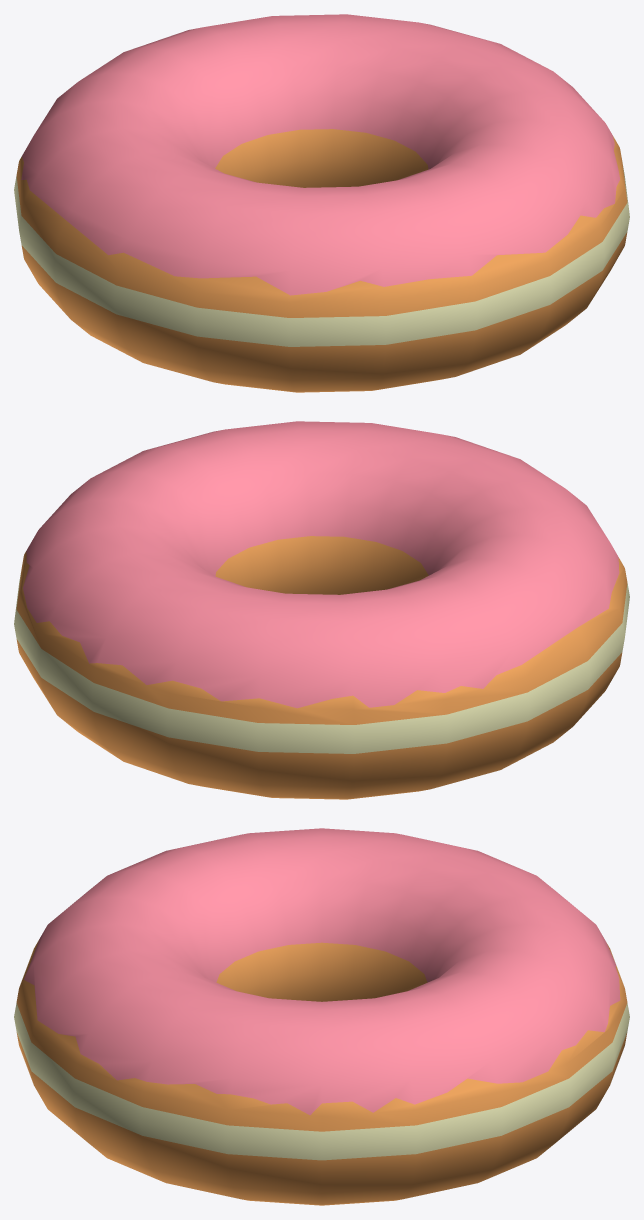
File: Donut_Blockout.fbx
3 views of the same model, one above another, from view 1: azimuth 30°, elevation 25°; view 2: azimuth 150°, elevation 25°; view 3: azimuth 270°, elevation 25° (orthographic).
Parts seen in each view (by area): view 1: donut; view 2: donut; view 3: donut.
Boxes of the visible parts, x1=… form: donut: x1=14, y1=14, x2=629, y2=392; donut: x1=14, y1=421, x2=629, y2=799; donut: x1=14, y1=828, x2=629, y2=1205.
Bounding box in the file's own units: 17.36 × 5.79 × 17.36.
